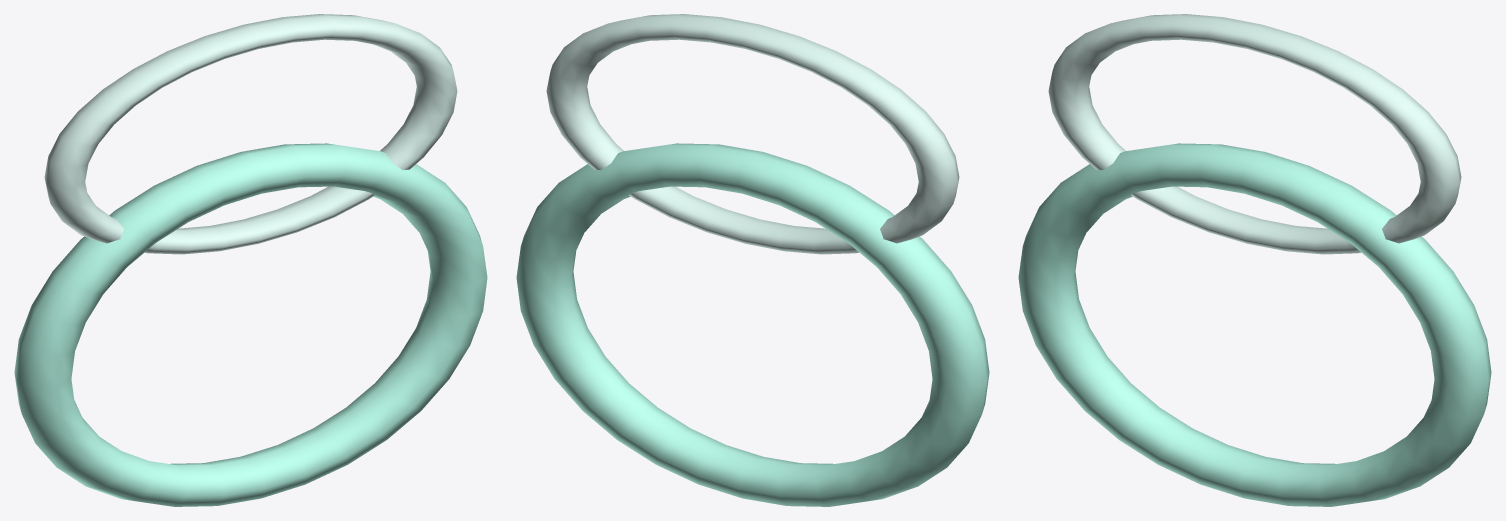
Rendered from gale_right.glb.
The picture shows the model from 3 angles, left to right: view 1: azimuth 30°, elevation 25°; view 2: azimuth 150°, elevation 25°; view 3: azimuth 330°, elevation 25°; orthographic projection.
Parts seen in each view (by area): view 1: gale_right; view 2: gale_right; view 3: gale_right.
Part boxes in pixels (<box>): gale_right: <box>14,14,487,506</box>; gale_right: <box>516,14,989,506</box>; gale_right: <box>1018,14,1491,506</box>.
Bounding box in the file's own units: 0.128 × 0.1228 × 0.014.
